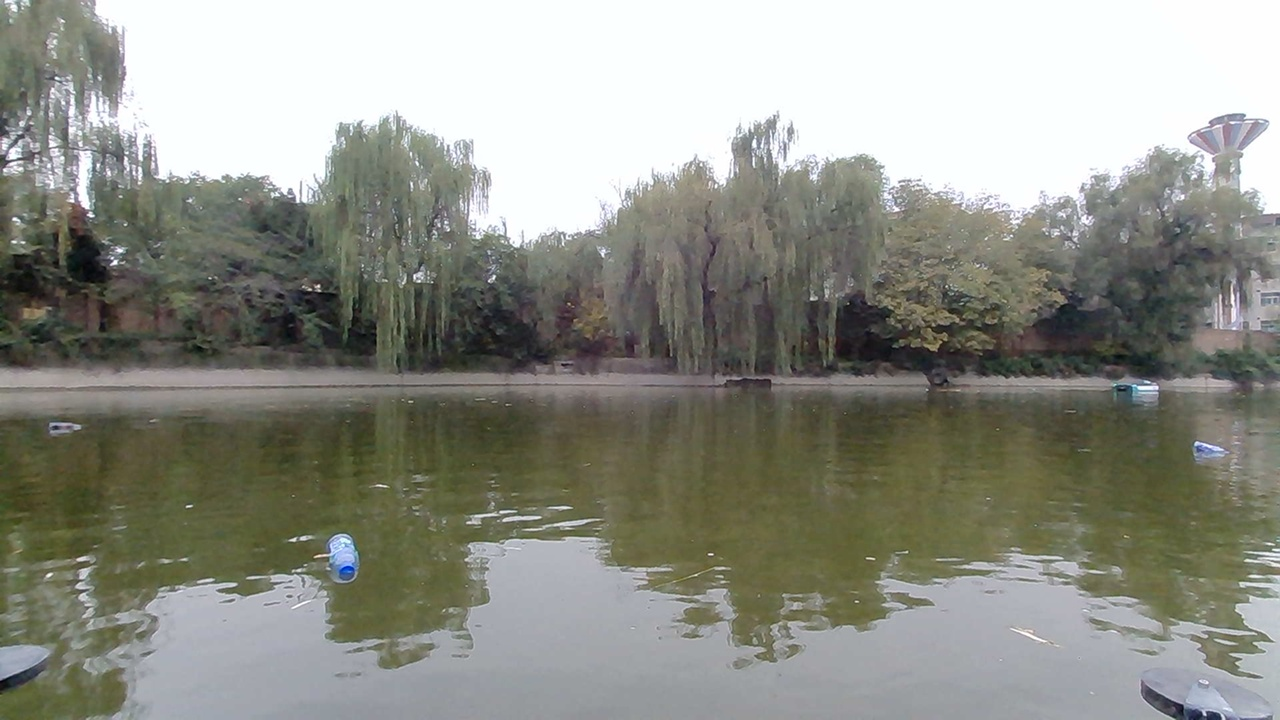bottle: (318, 540, 368, 577), (1187, 435, 1232, 469), (50, 401, 82, 435)
